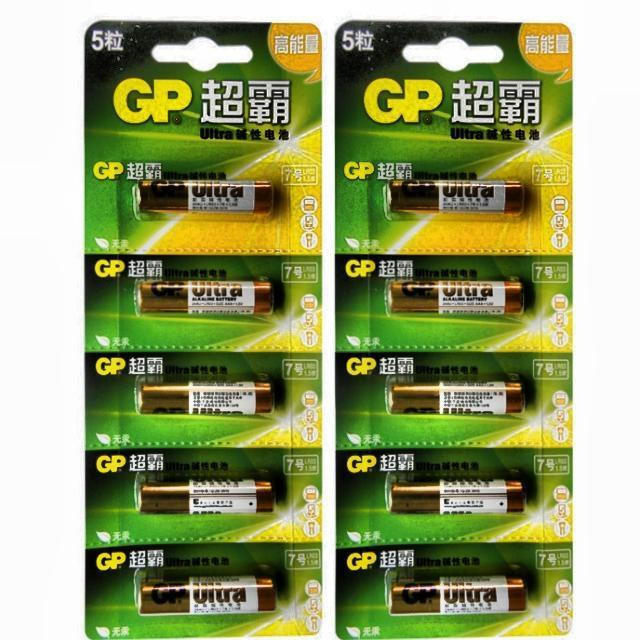battery: (139, 571, 277, 615), (389, 575, 527, 615), (388, 477, 526, 513), (139, 479, 274, 514), (136, 180, 274, 213), (136, 281, 273, 314), (388, 381, 524, 414), (388, 281, 524, 314), (389, 180, 524, 213), (136, 383, 274, 414)
